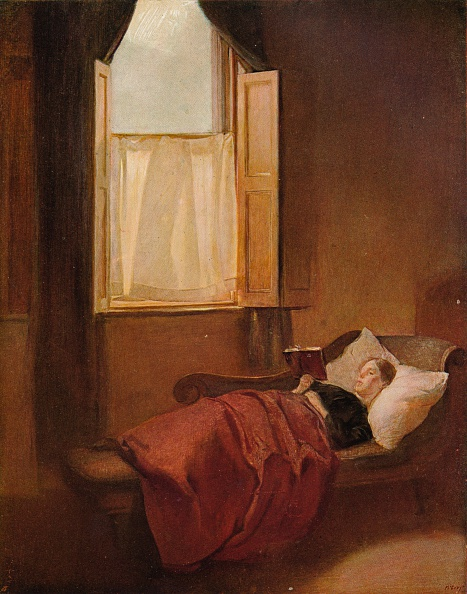deitado: (335, 341, 410, 446)
